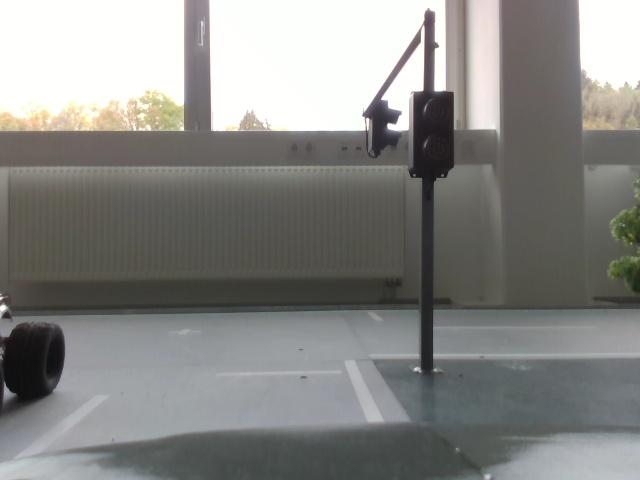potted plant: (606, 181, 640, 293)
traffic light: (412, 92, 461, 180), (363, 99, 403, 155)
